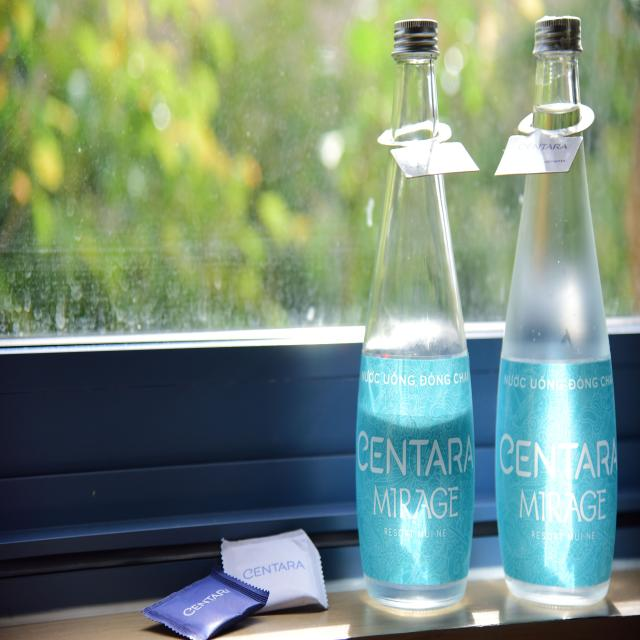Bottle: (496, 145, 617, 605), (356, 155, 474, 609)
